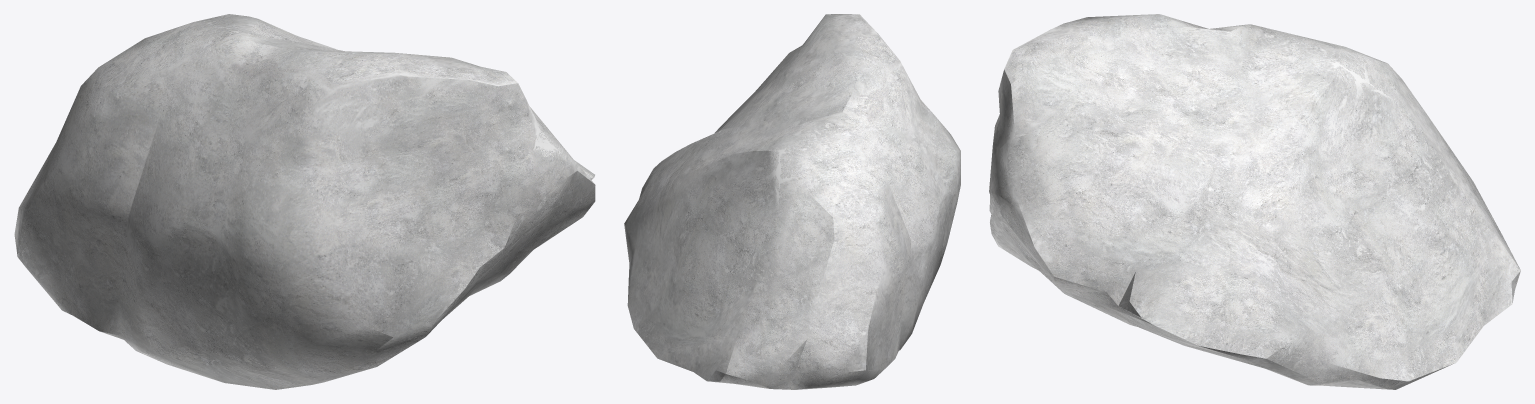
Rendered from rock_00_lp.fbx.
3 views of the same model, side by side, from view 1: azimuth 30°, elevation 25°; view 2: azimuth 150°, elevation 25°; view 3: azimuth 270°, elevation 25° (orthographic). The views are drawn at different scales.
Parts seen in each view (by area): view 1: rock_00_lp; view 2: rock_00_lp; view 3: rock_00_lp.
Part boxes in pixels (box(x1,y1,x2,y2)): rock_00_lp: box(14, 14, 595, 389); rock_00_lp: box(624, 14, 960, 389); rock_00_lp: box(989, 14, 1520, 389).
Bounding box in the file's own units: 196 × 149 × 226.
